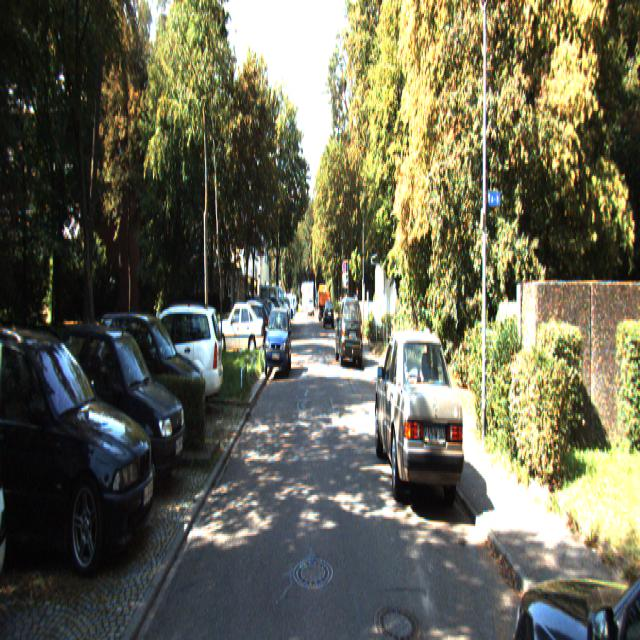Car: (0, 306, 158, 578), (33, 316, 189, 505), (374, 328, 465, 513), (89, 308, 208, 446), (118, 304, 224, 422), (213, 300, 264, 360), (336, 294, 363, 368), (264, 308, 291, 378)
